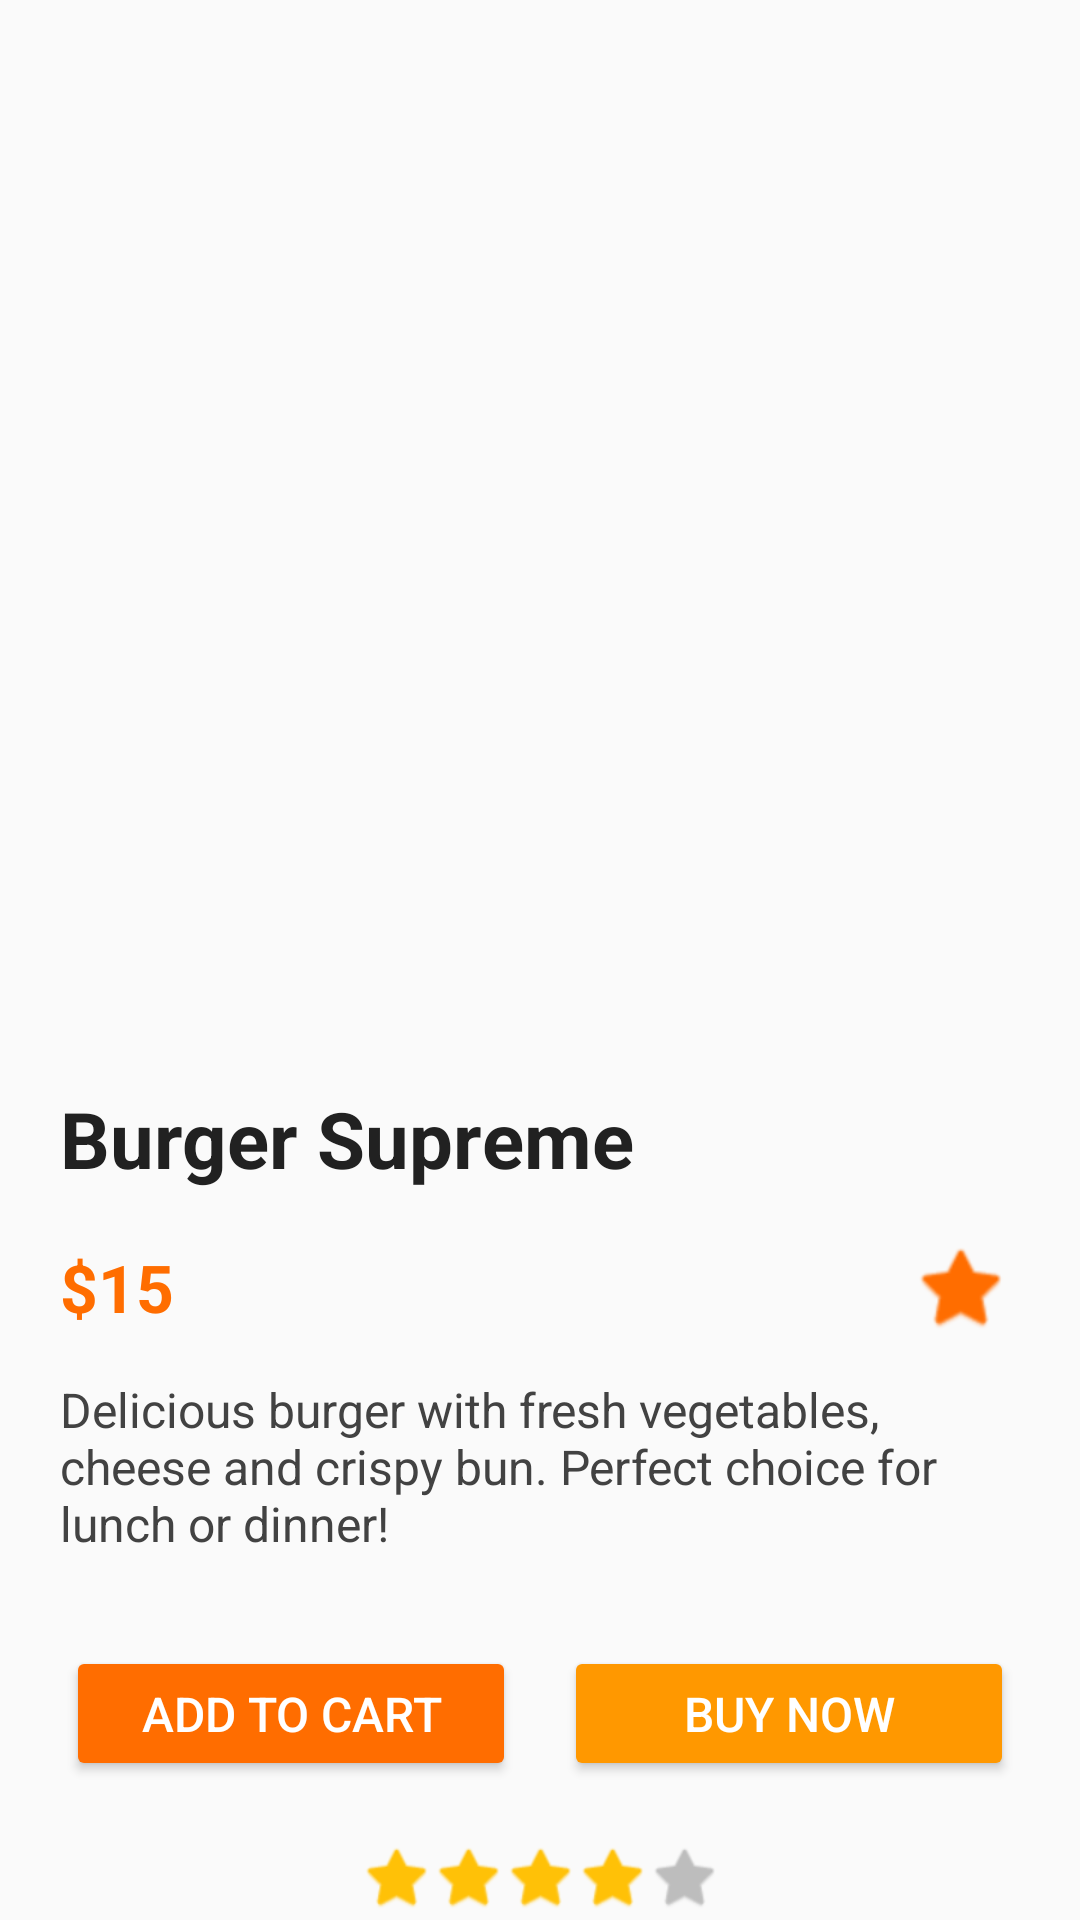

Screen size 1080px x 1920px. Icon name, then its box in pixels as [x1=x1, y1=y1, x2=x2, y2=y2]:
star on: [x1=366, y1=1848, x2=427, y2=1907], [x1=438, y1=1848, x2=499, y2=1907], [x1=510, y1=1848, x2=571, y2=1907], [x1=582, y1=1848, x2=643, y2=1907]
